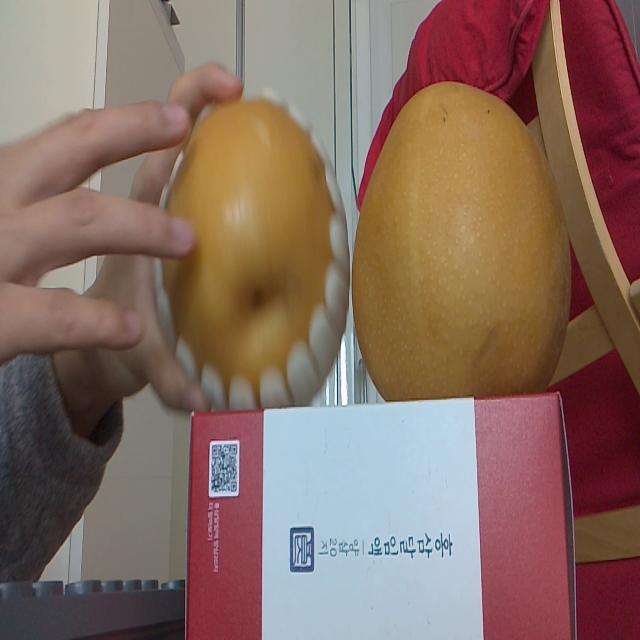pear: (352, 80, 572, 403), (160, 87, 350, 411)
